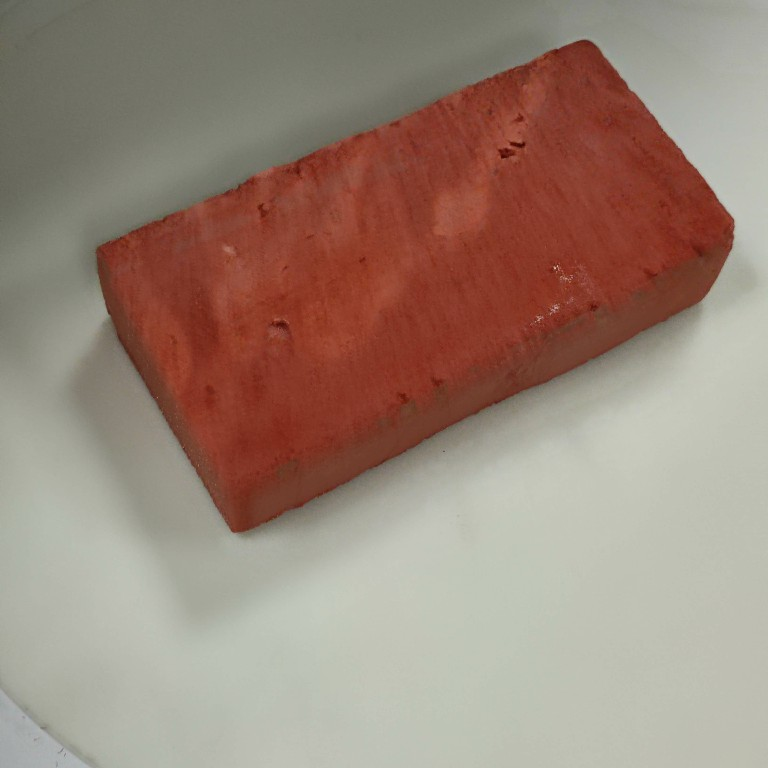brick: (93, 34, 737, 539)
